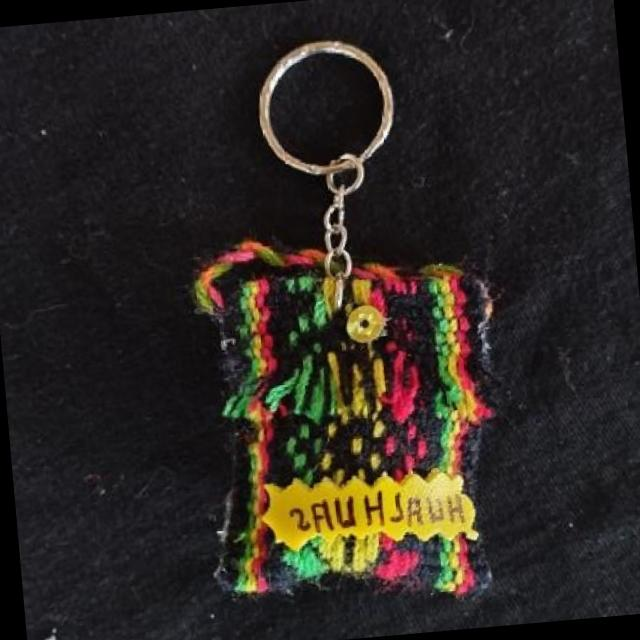Llavero: (184, 217, 520, 624)
